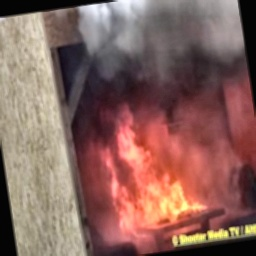fire: (85, 100, 226, 240)
smoke: (79, 0, 246, 87)
